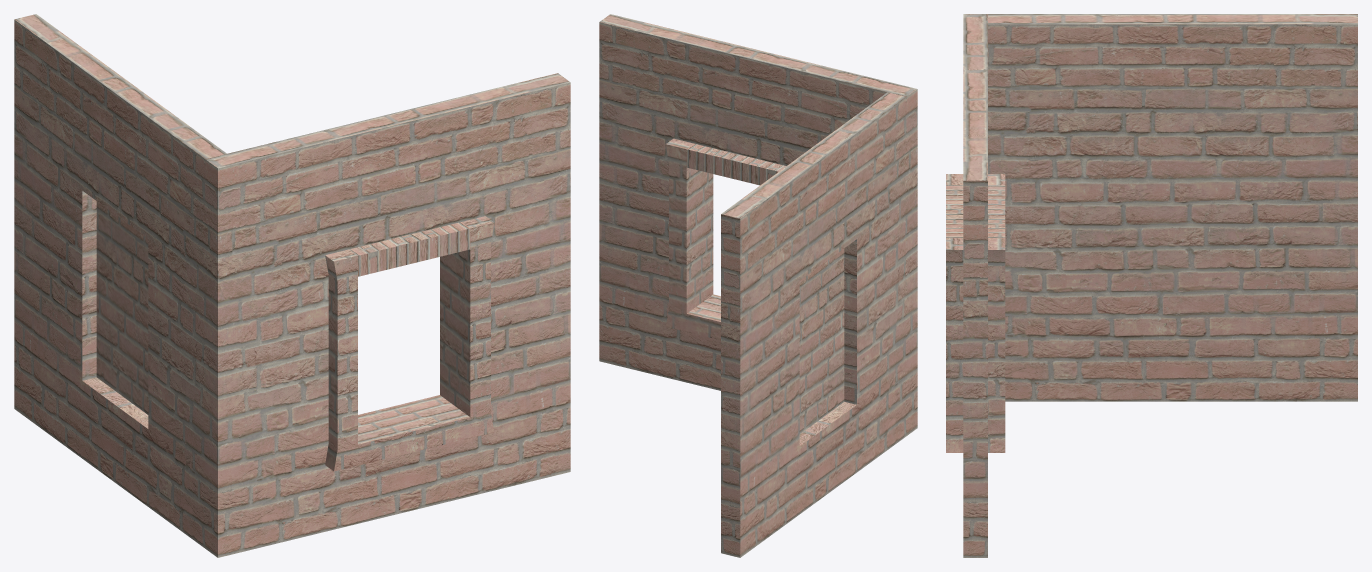
File: WallDoubleWindowHigh.fbx
The picture shows the model from 3 angles, left to right: view 1: azimuth 30°, elevation 25°; view 2: azimuth 150°, elevation 25°; view 3: azimuth 270°, elevation 25°; orthographic projection. The views are drawn at different scales.
Visible parts, largest first — view 1: WallDoubleWindowHigh; view 2: WallDoubleWindowHigh; view 3: WallDoubleWindowHigh.
Boxes of the visible parts, x1,y1,x2,y2 form: WallDoubleWindowHigh: (14,14,570,557); WallDoubleWindowHigh: (599,14,917,557); WallDoubleWindowHigh: (946,14,1357,557).
Bounding box in the file's own units: 320 × 338 × 334.
Materials: 1 (1 with a texture image).
